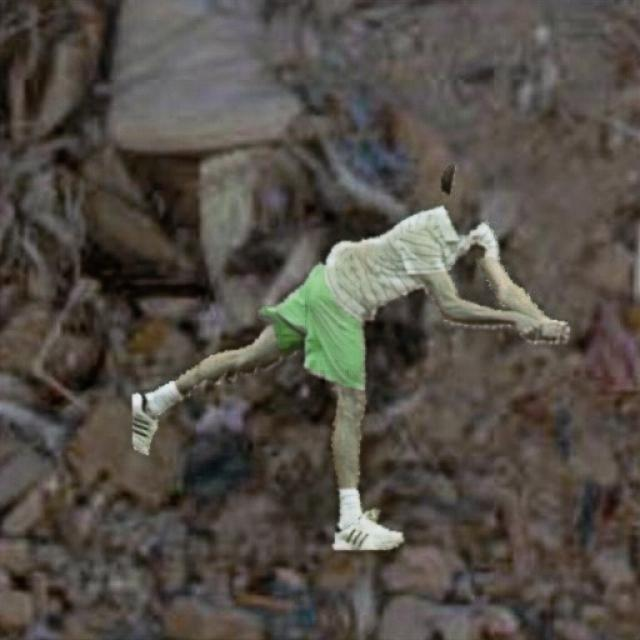Person in Rubble: (132, 164, 568, 548)
